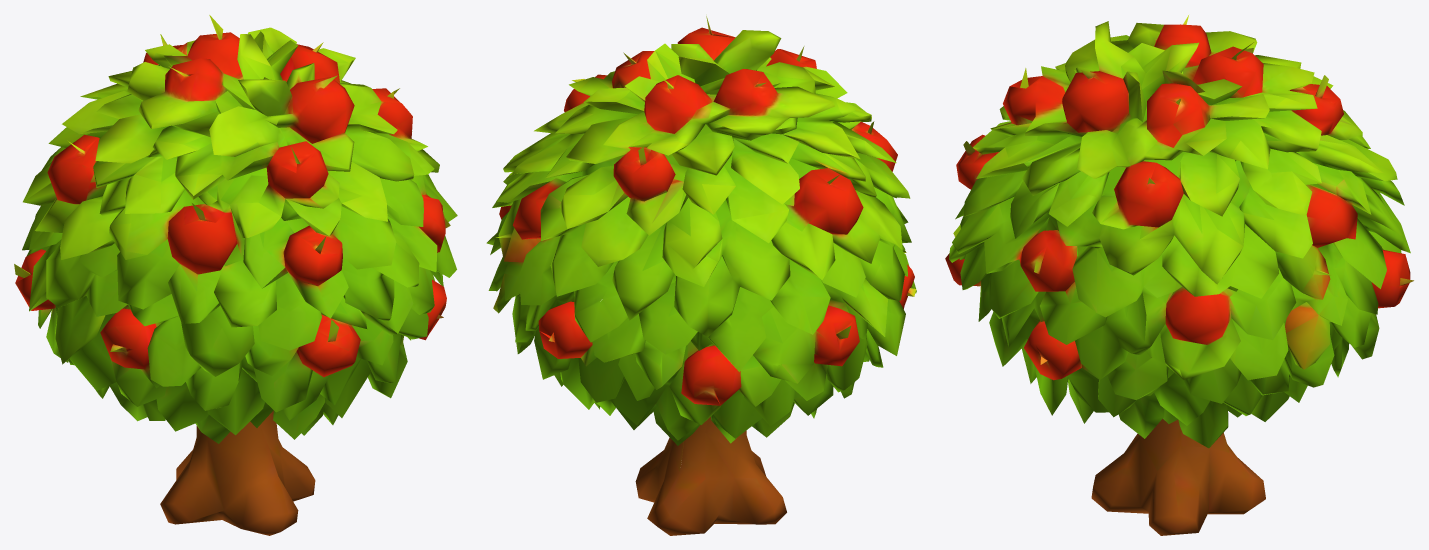
The model's file is tree_apple.glb.
3 renders of one model, left to right at view 1: azimuth 30°, elevation 25°; view 2: azimuth 150°, elevation 25°; view 3: azimuth 270°, elevation 25°, orthographic. The views are drawn at different scales.
Parts seen in each view (by area): view 1: tripo_node_cadcc7b8-7c39-4cf0-8a8d-30622b45584d; view 2: tripo_node_cadcc7b8-7c39-4cf0-8a8d-30622b45584d; view 3: tripo_node_cadcc7b8-7c39-4cf0-8a8d-30622b45584d.
Part boxes in pixels (box(x1,y1,x2,y2)): tripo_node_cadcc7b8-7c39-4cf0-8a8d-30622b45584d: box(14, 15, 457, 535); tripo_node_cadcc7b8-7c39-4cf0-8a8d-30622b45584d: box(486, 16, 916, 535); tripo_node_cadcc7b8-7c39-4cf0-8a8d-30622b45584d: box(945, 15, 1413, 535).
Size of the model in its own units: 3.78 by 4.2 by 3.81.
1 material, 1 textured.
